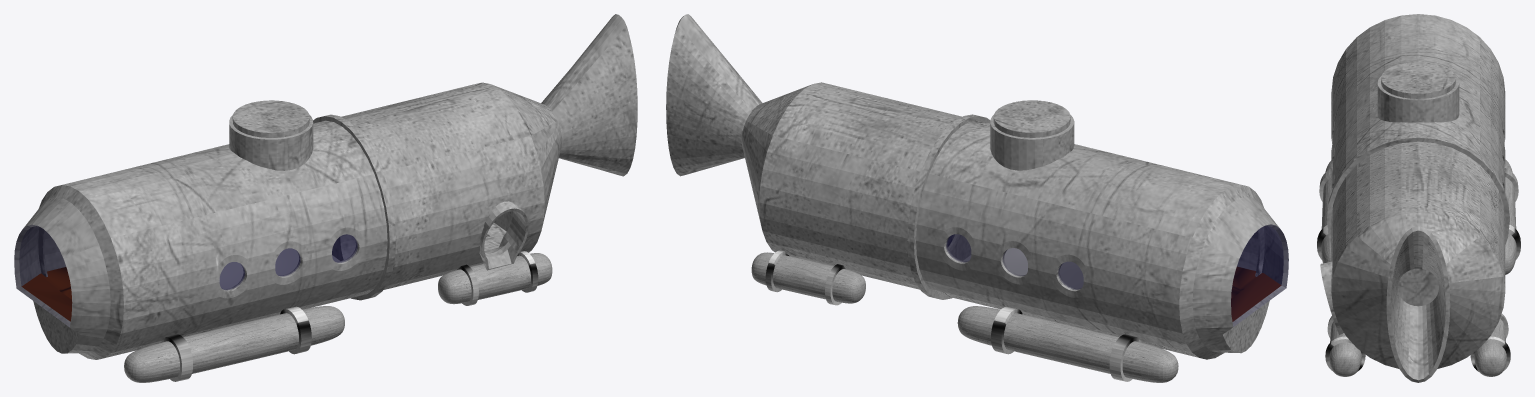
The model's file is Submarine.fbx.
3 views of the same model, side by side, from view 1: azimuth 30°, elevation 25°; view 2: azimuth 150°, elevation 25°; view 3: azimuth 270°, elevation 25° (orthographic). The views are drawn at different scales.
Parts seen in each view (by area): view 1: Submarine; view 2: Submarine; view 3: Submarine.
Part boxes in pixels (x1,y1,x2,y2): Submarine: (14, 14, 637, 382); Submarine: (666, 14, 1288, 382); Submarine: (1317, 14, 1520, 382).
Size of the model in its own units: 2353 by 846 by 740.
